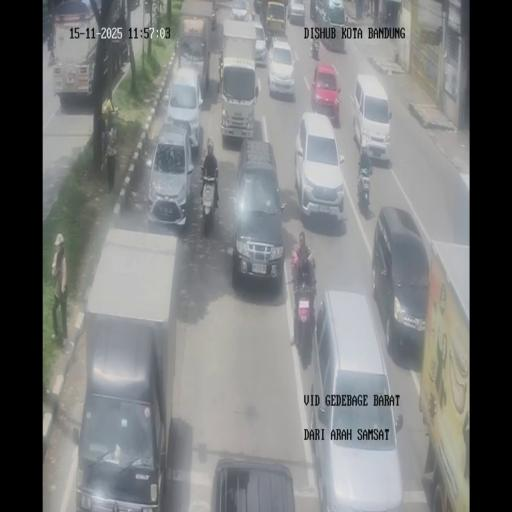car: (310, 295, 402, 508), (374, 206, 430, 356), (230, 138, 284, 285), (295, 110, 345, 226), (208, 455, 297, 511), (164, 66, 203, 154), (354, 73, 392, 162), (266, 36, 296, 99), (311, 62, 341, 124), (179, 32, 207, 84), (266, 0, 287, 38), (253, 20, 267, 64), (41, 8, 53, 44), (288, 0, 305, 24), (230, 0, 248, 21), (210, 6, 216, 31)
motorcycle: (292, 280, 317, 363), (198, 167, 218, 231), (356, 157, 373, 209), (217, 50, 224, 89), (310, 39, 320, 60), (48, 44, 56, 67), (378, 6, 386, 23), (363, 0, 369, 18)
truck: (75, 228, 183, 507), (418, 242, 469, 508), (51, 0, 130, 104), (219, 20, 259, 145), (313, 0, 348, 51)
